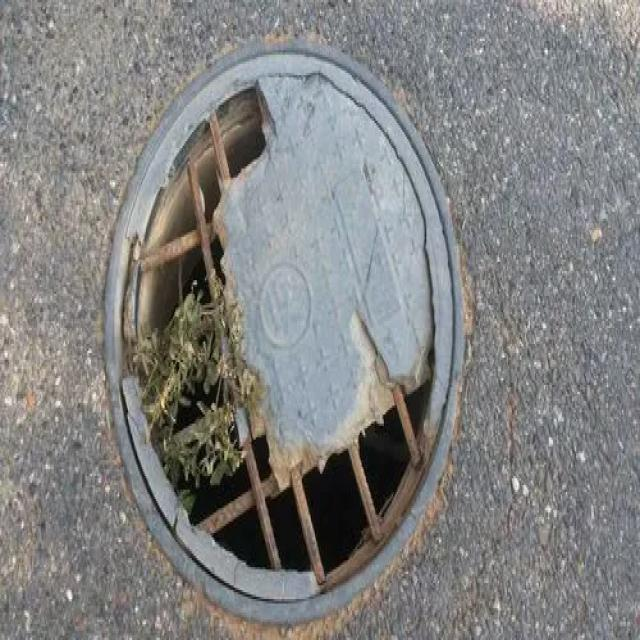manhole: (105, 41, 465, 623)
